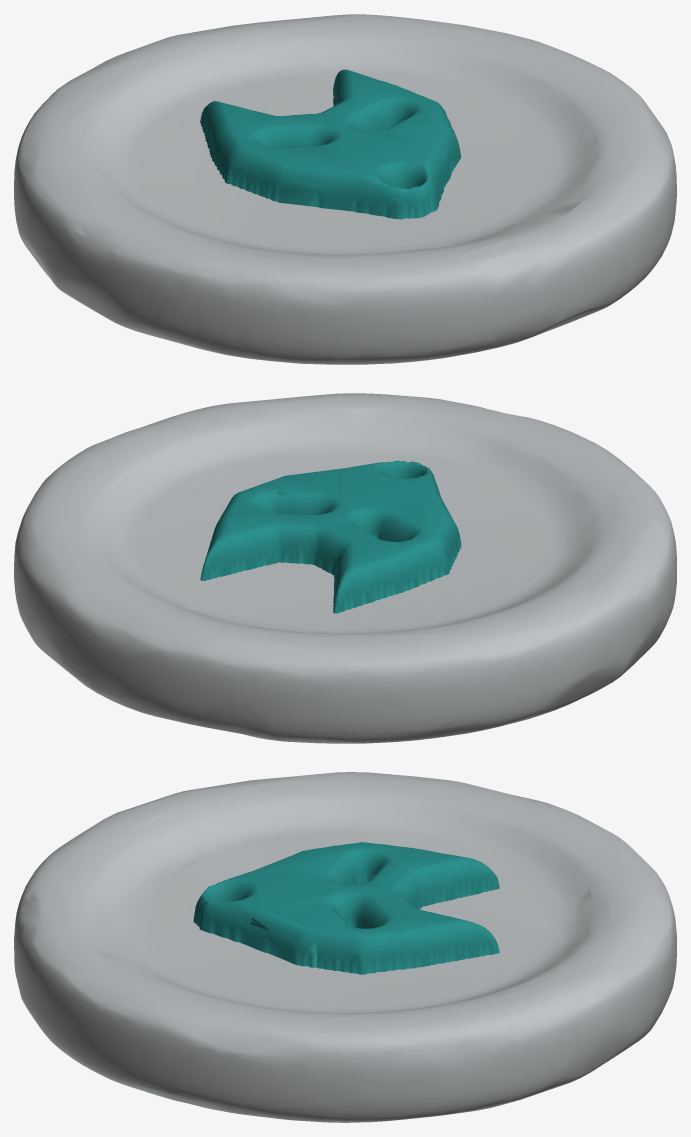
The model's file is token-hunter-blue-draco.glb.
3 views of the same model, one above another, from view 1: azimuth 30°, elevation 25°; view 2: azimuth 150°, elevation 25°; view 3: azimuth 270°, elevation 25° (orthographic).
Visible parts, largest first — view 1: token_hunter_blue; view 2: token_hunter_blue; view 3: token_hunter_blue.
Boxes of the visible parts, x1,y1,x2,y2 form: token_hunter_blue: (14,14,676,364); token_hunter_blue: (14,393,676,743); token_hunter_blue: (14,772,676,1122).
Bounding box in the file's own units: 0.414 × 0.072 × 0.414.
